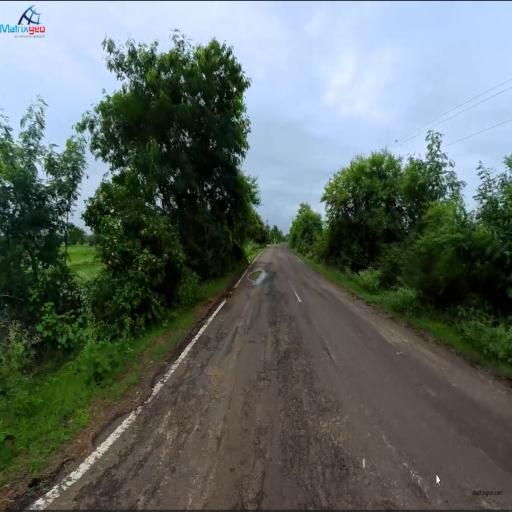ravelling: (237, 311, 326, 495)
